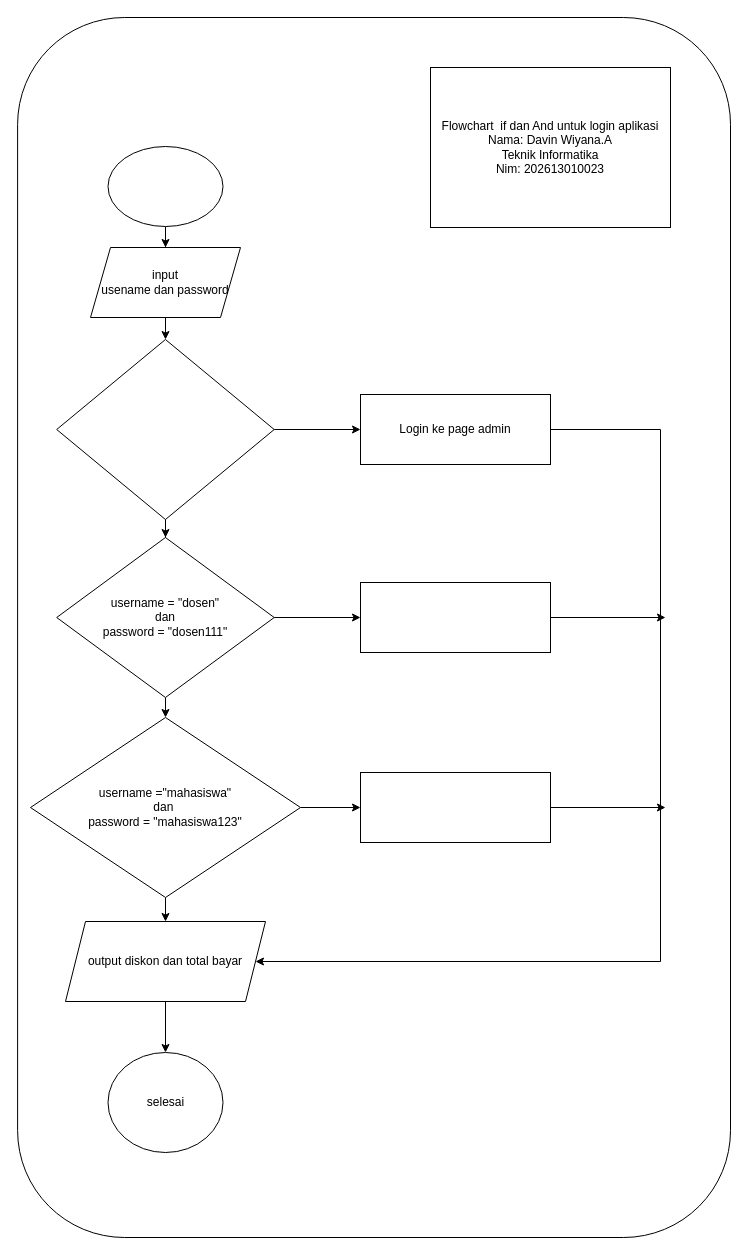
Some shapes in this 748 by 1255 pixel diagram are drawn without their labels. The centre of each missing label's shape, as x and y in pixels:
login ke page dosen: point 455,617
login ke page mahasiswwa: point 455,807
Mulai: point 165,186
username "admin" dan password = "admin123": point 165,429
